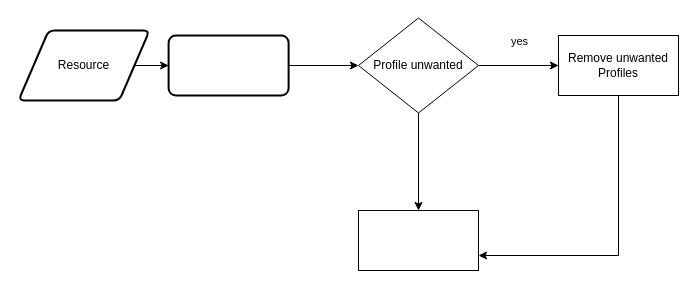
The diagram is 696 pixels wide and 288 high, and some of its shapes have lost their labels. The shapes that lost their labels are listed below. From the top down, each one's box as (x1, y1, x2, y2) in pixels, then its label:
(167, 34, 289, 96): Extract AttribugeGroup Profiles
(358, 210, 478, 270): Add Data Absent Reasons for Attribute Group
